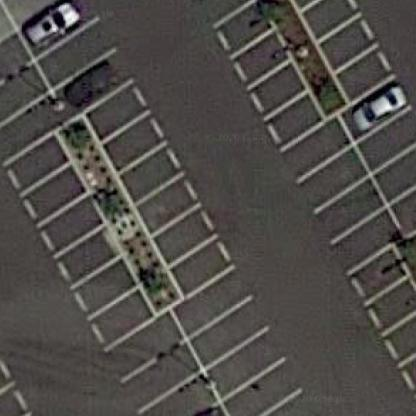car: (346, 72, 410, 140), (16, 2, 88, 50), (61, 62, 119, 106)
